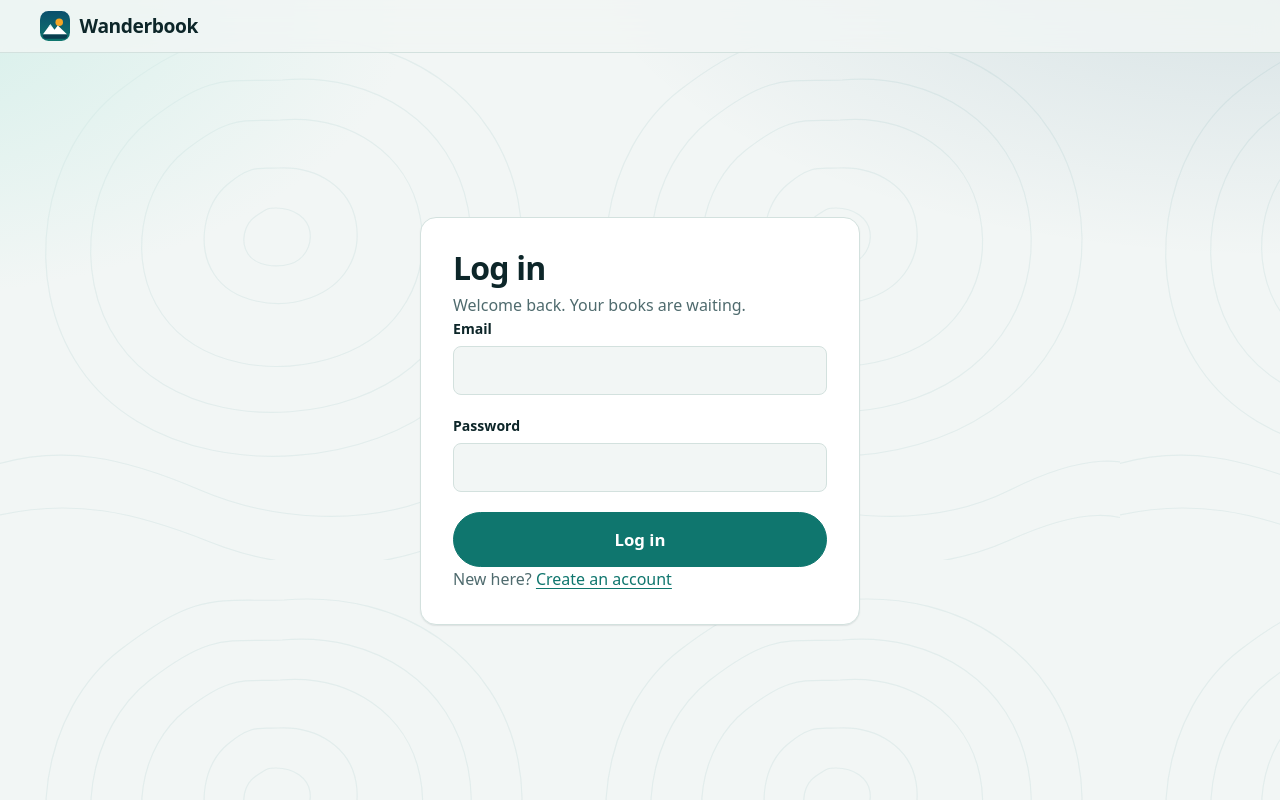
Test: logged out › shows the server message for wrong credentials
The image size is (1280, 800).
Expected: the heading "Log in" is shown, [453,246,546,290]
In the field labelled "Email": (640, 370) [453,346,827,395], type "asha@example.com"
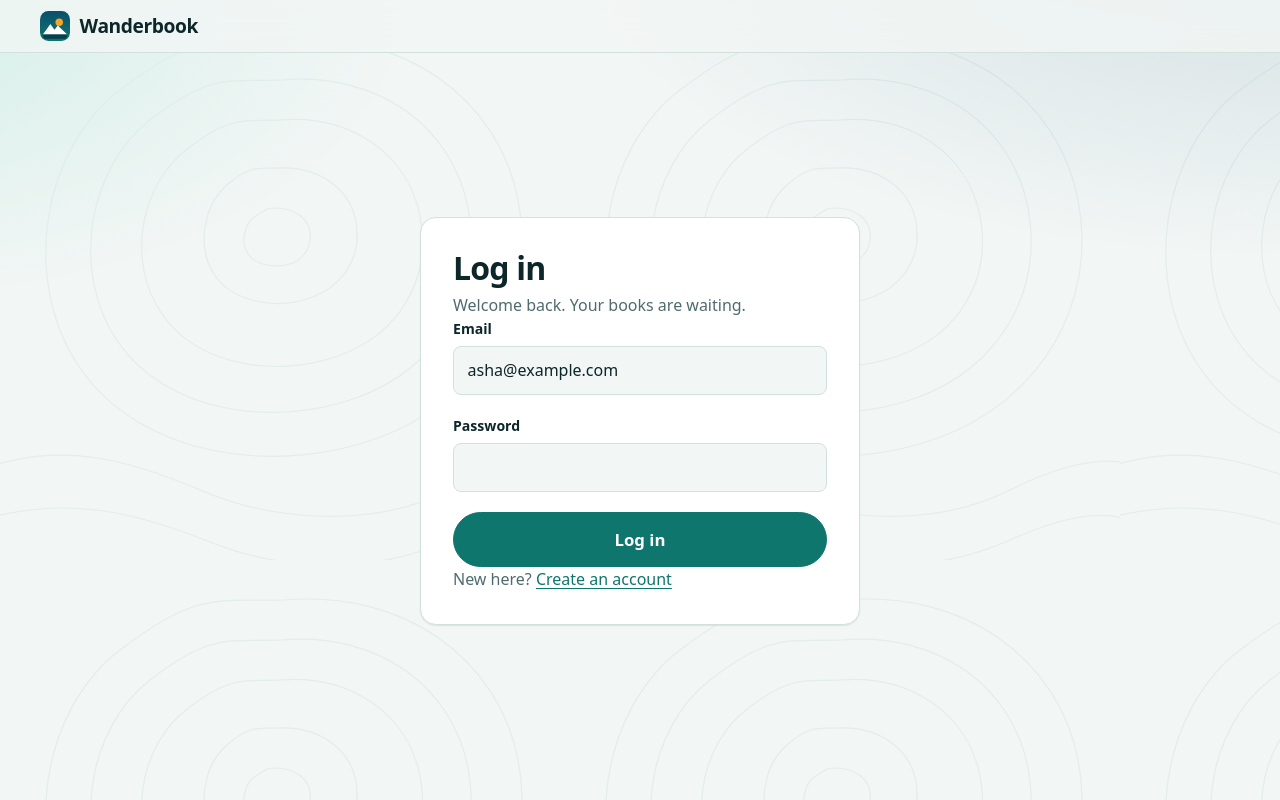
In the password field labelled "Password": (640, 468) [453,443,827,492], type "wrong password"
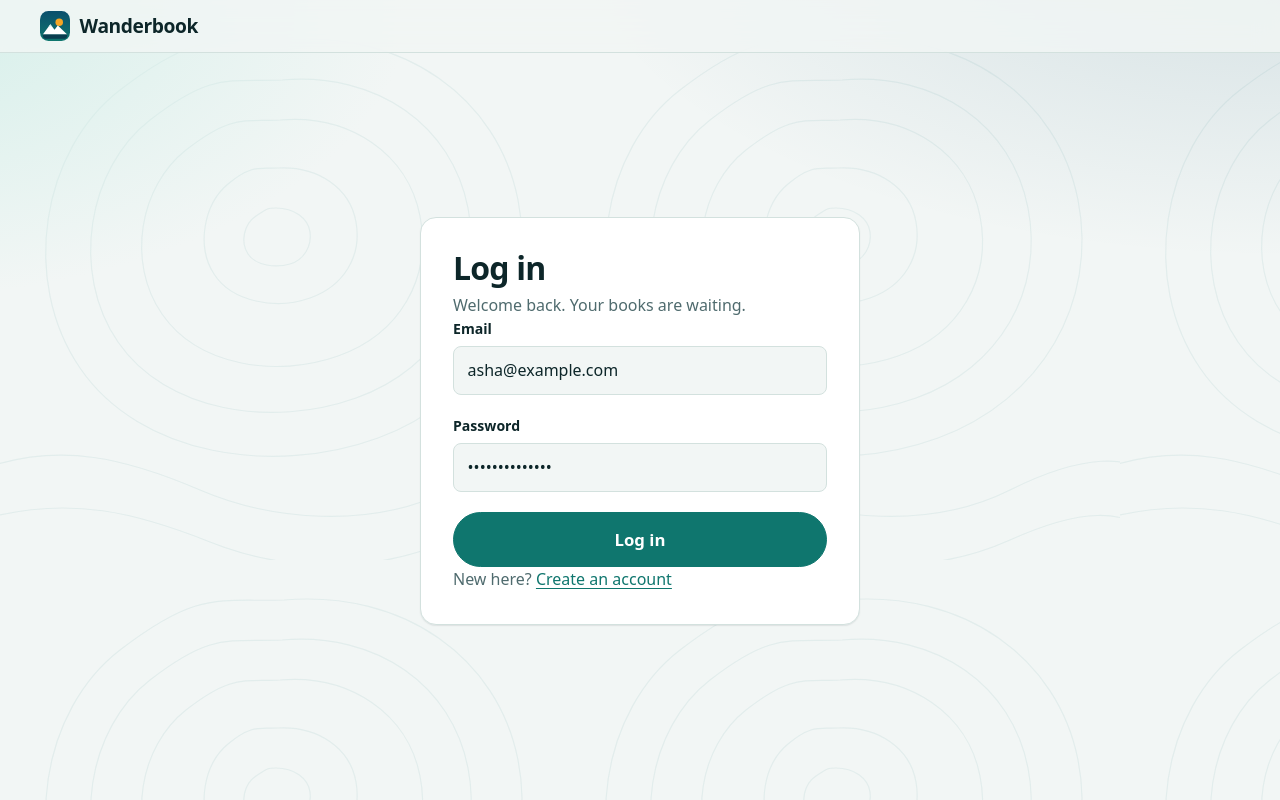
Click the button "Log in": (640, 540) [453,512,827,568]
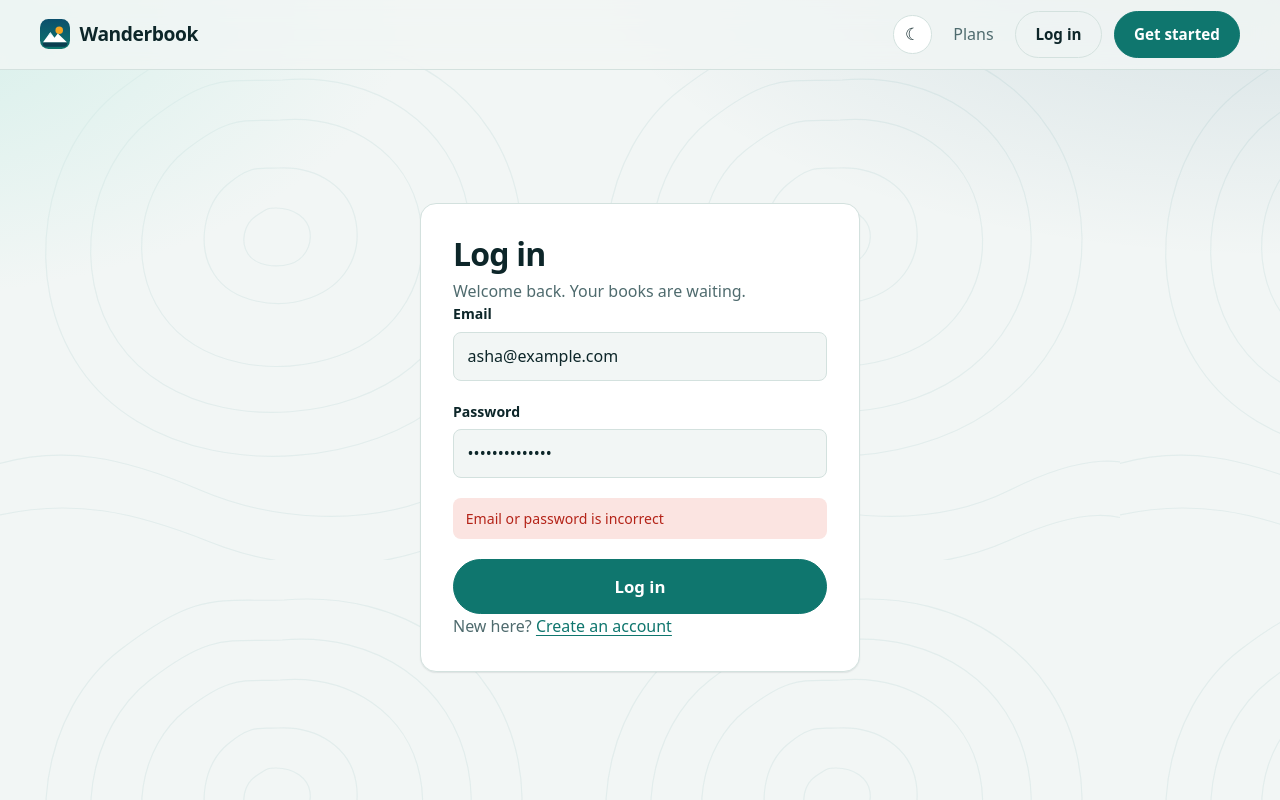
Result: the message reads "Email or password is incorrect" at [466,509,664,528]
